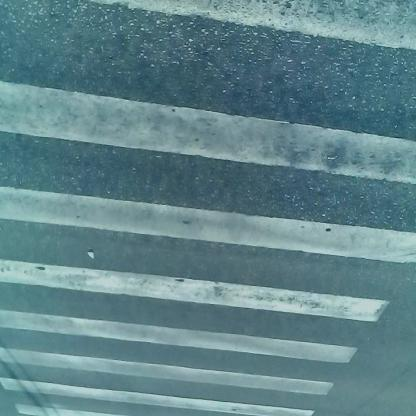crosswalk: (3, 2, 415, 413)
